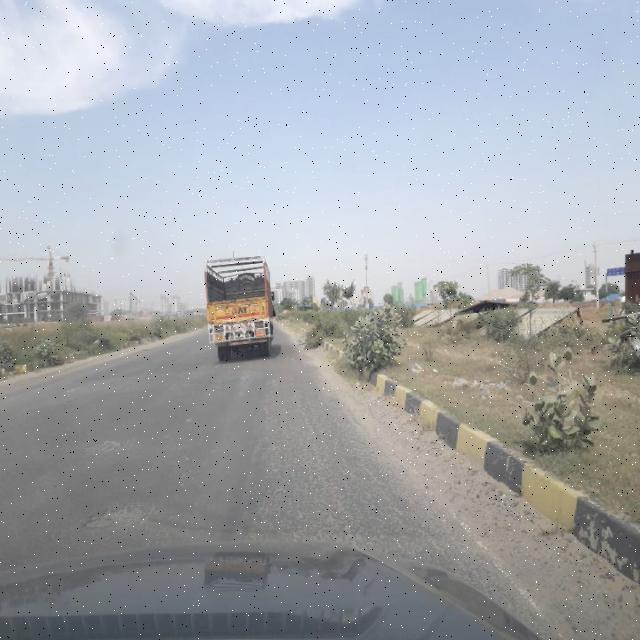D20: (241, 379, 483, 534), (75, 493, 148, 547)
